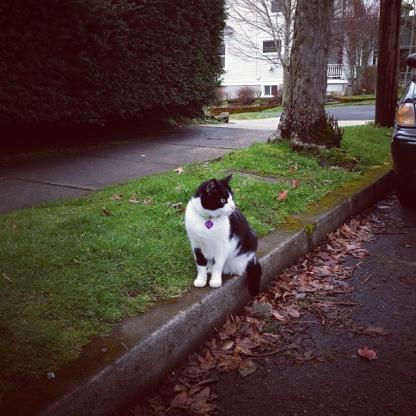Target: (183, 170, 268, 302)
